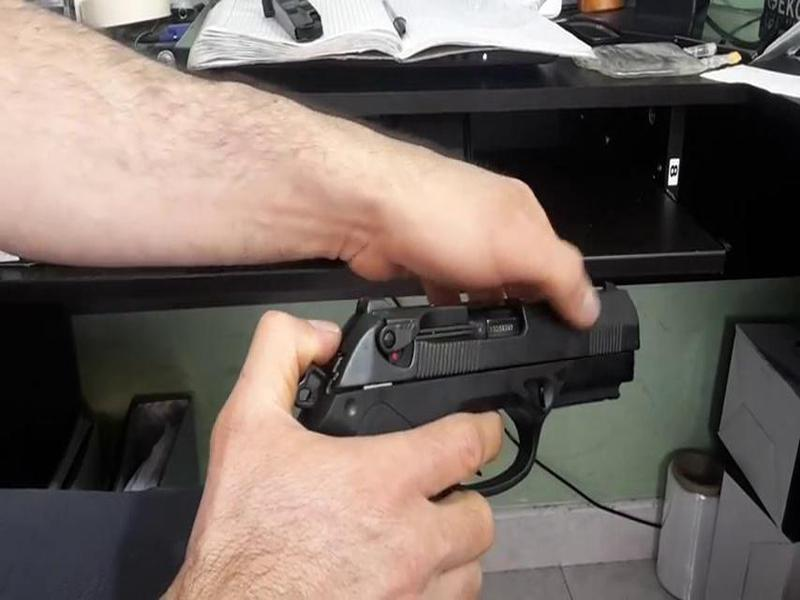Pistola: (248, 257, 676, 510)
